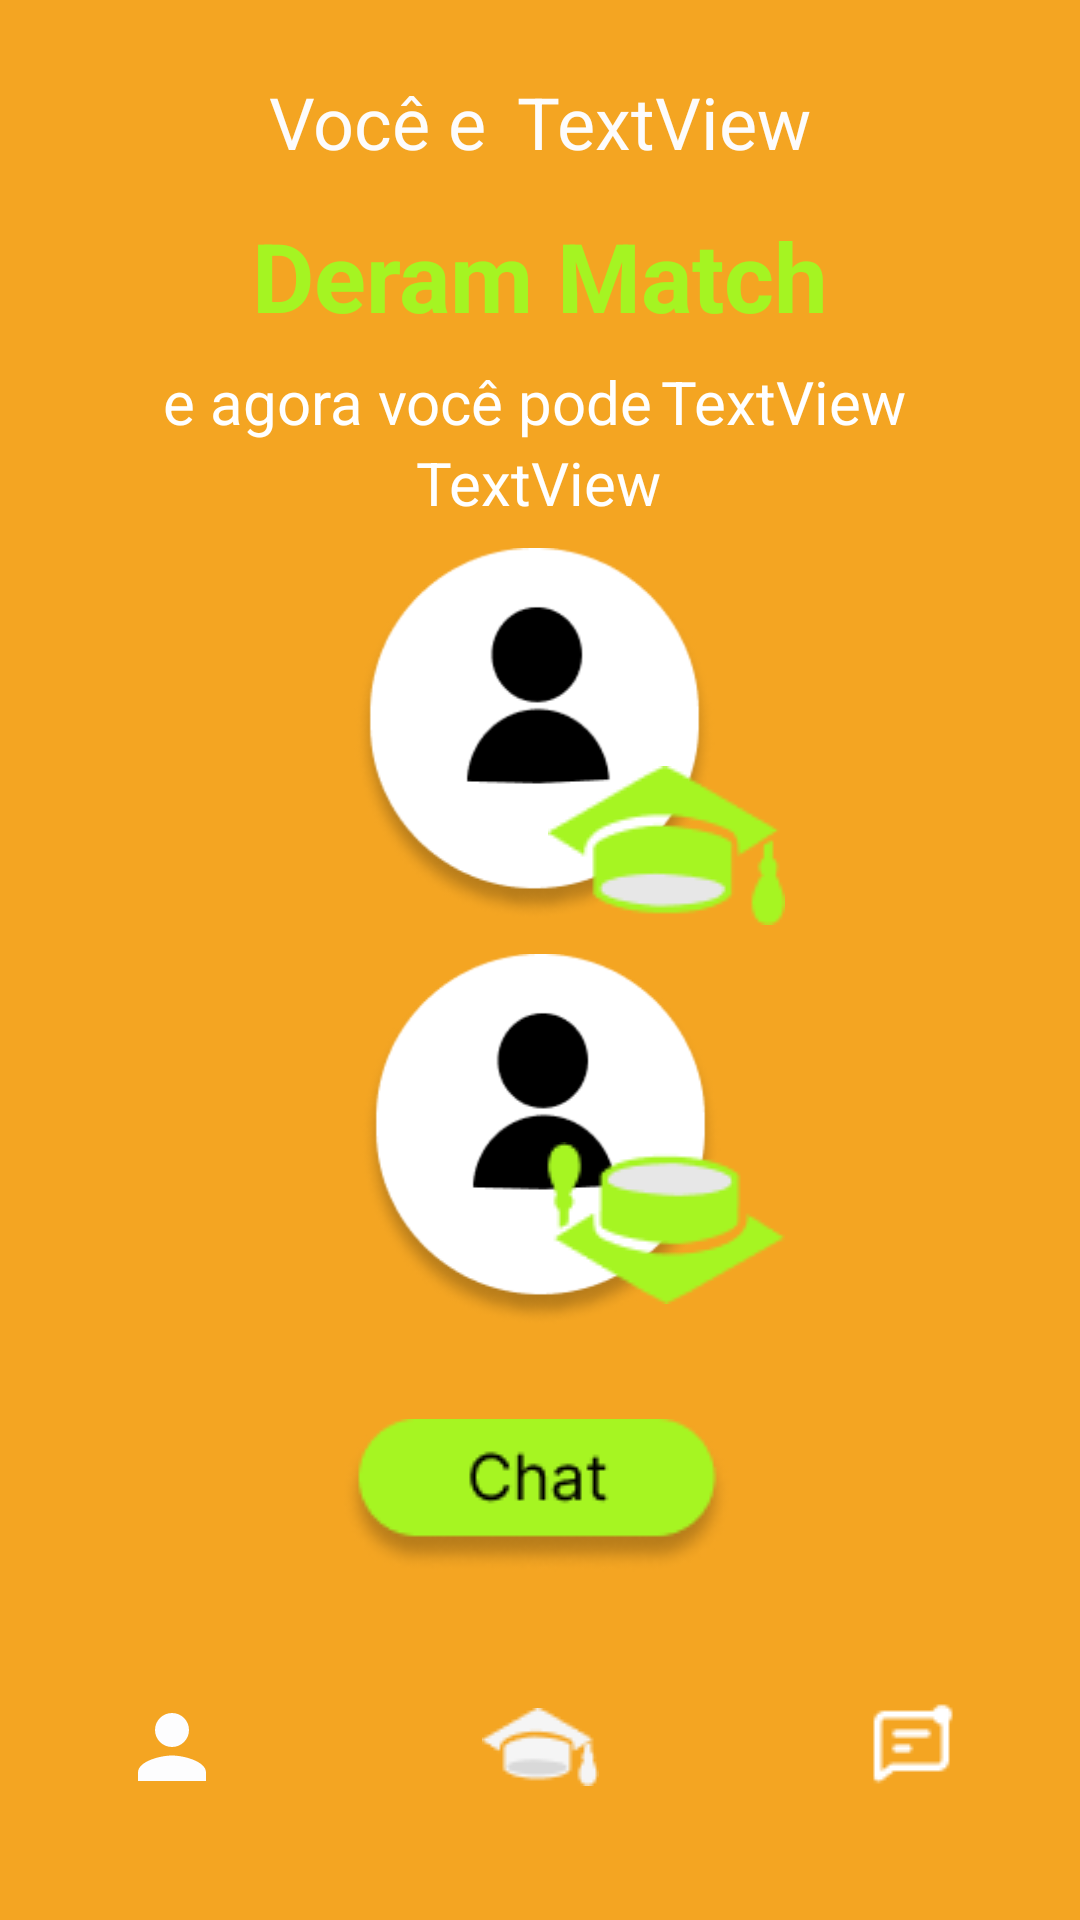

Icon bounding boxes for this 1080w x 1920h phone screenshot, format Rect(x1, y1, x2, y2):
notifimenuwhite: Rect(873, 1704, 953, 1784)
person: Rect(138, 1713, 206, 1781)
